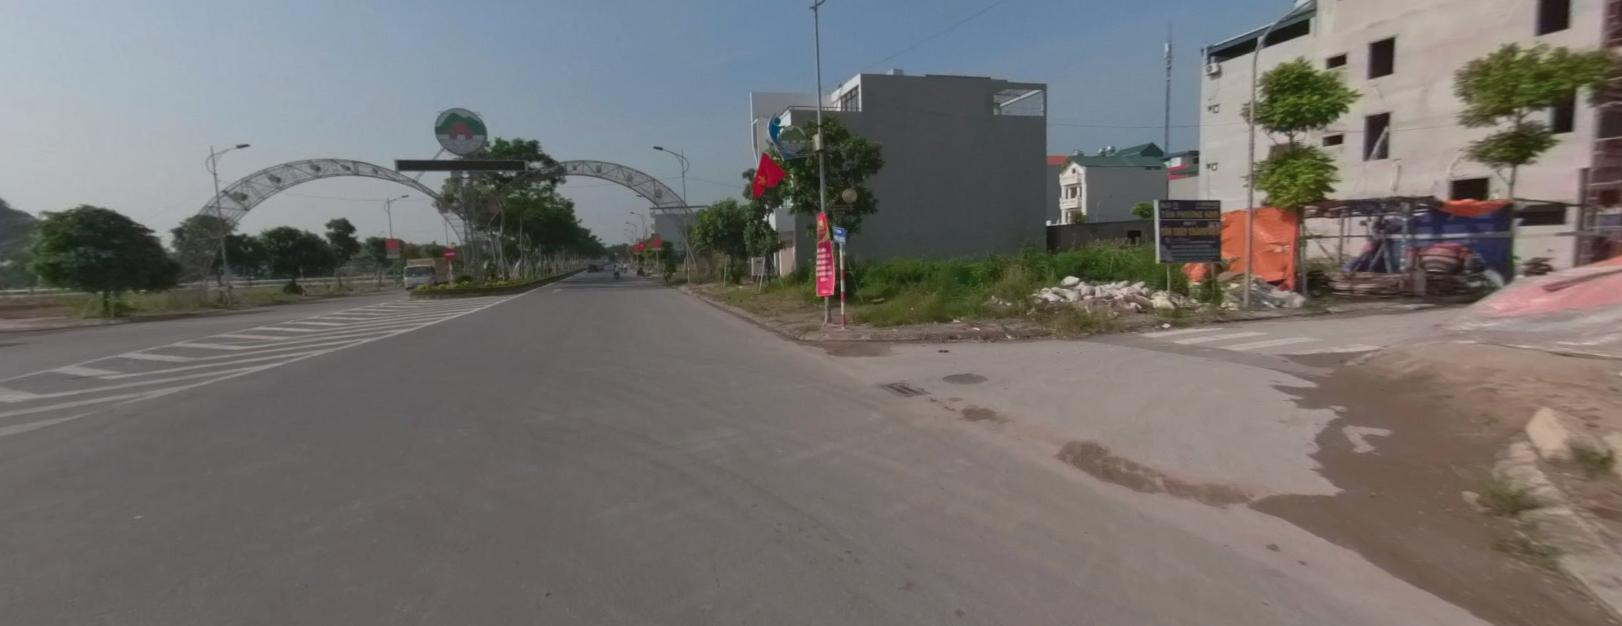Cam nguoc chieu: (443, 245, 455, 257), (443, 245, 454, 257), (444, 247, 455, 257)
